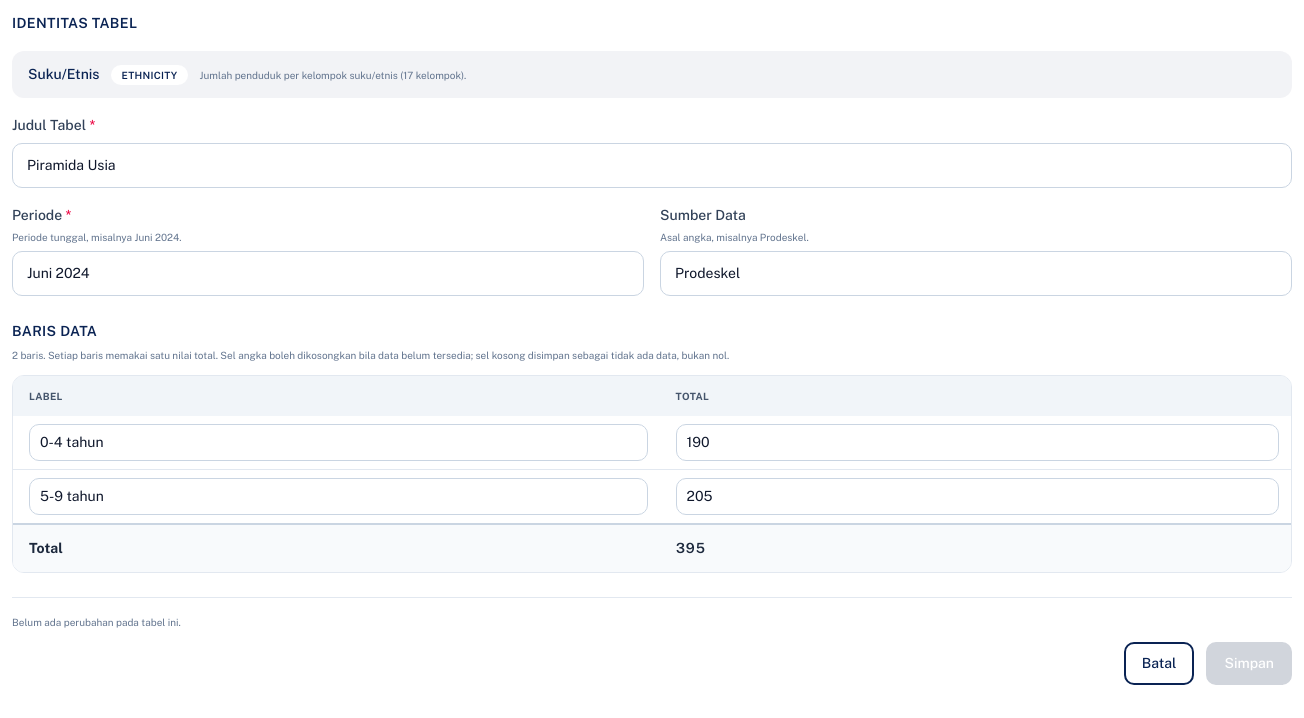
it: TableIndicatorForm.vue › rejects a non-integer cell before sending anything
Replace the text in the field with id "table-row-row-1-total" with "abc" at point(977, 442), box top-left (676, 424), bottom-right (1279, 461)
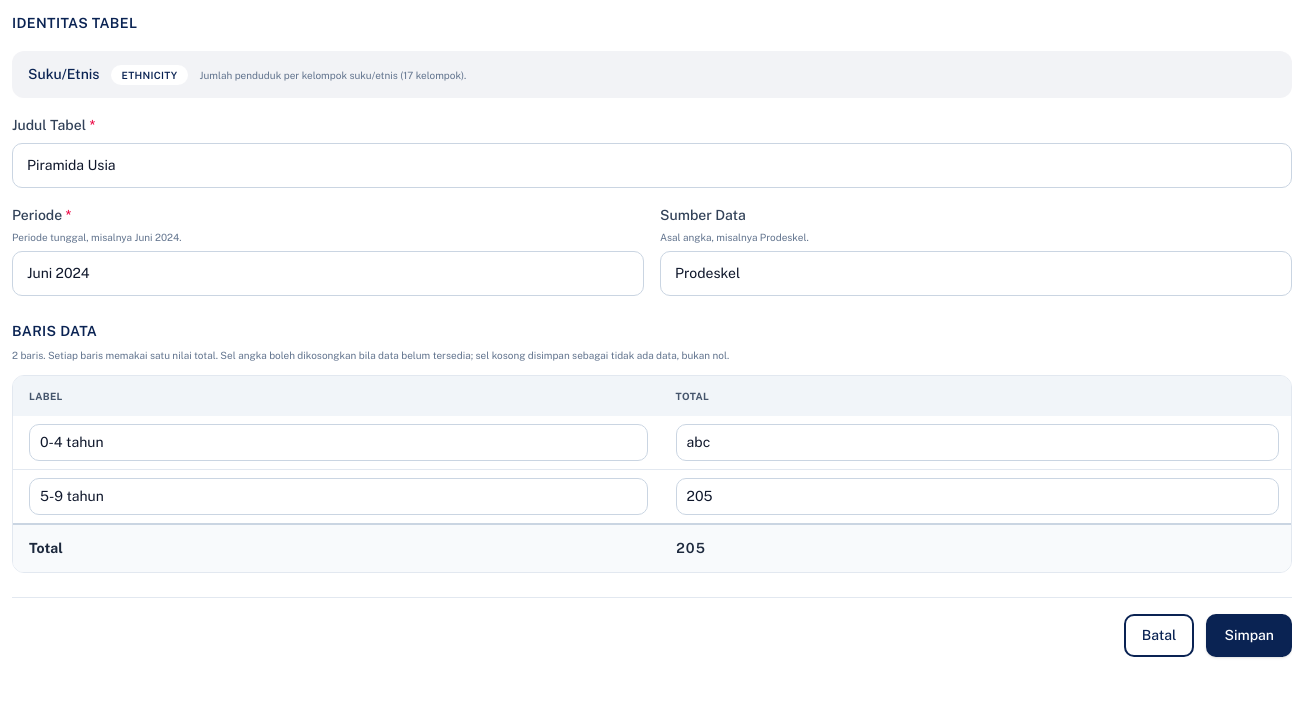
Submit the form
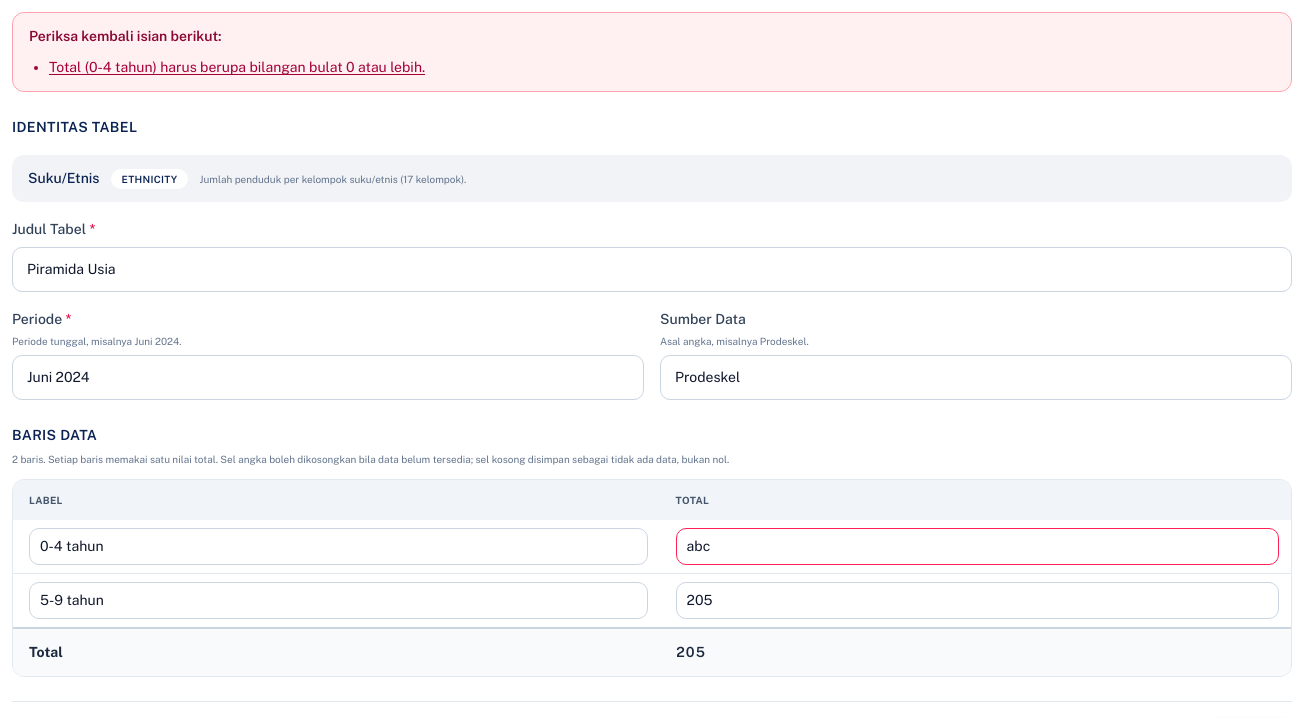
expect the message is shown: met, box top-left (12, 12), bottom-right (1292, 92)
expect the message shows "harus berupa bilangan bulat": met, box top-left (49, 59), bottom-right (425, 75)
